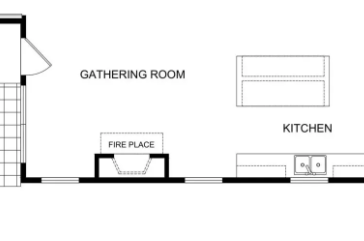door: (14, 28, 55, 76)
window: (35, 164, 83, 196), (178, 169, 229, 194), (17, 81, 30, 164), (288, 174, 332, 191)
